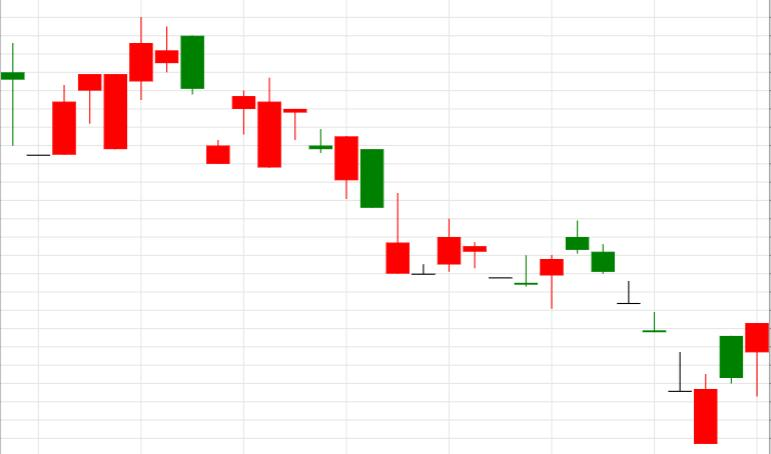inverse_hammer_rise: (181, 35, 410, 273)
